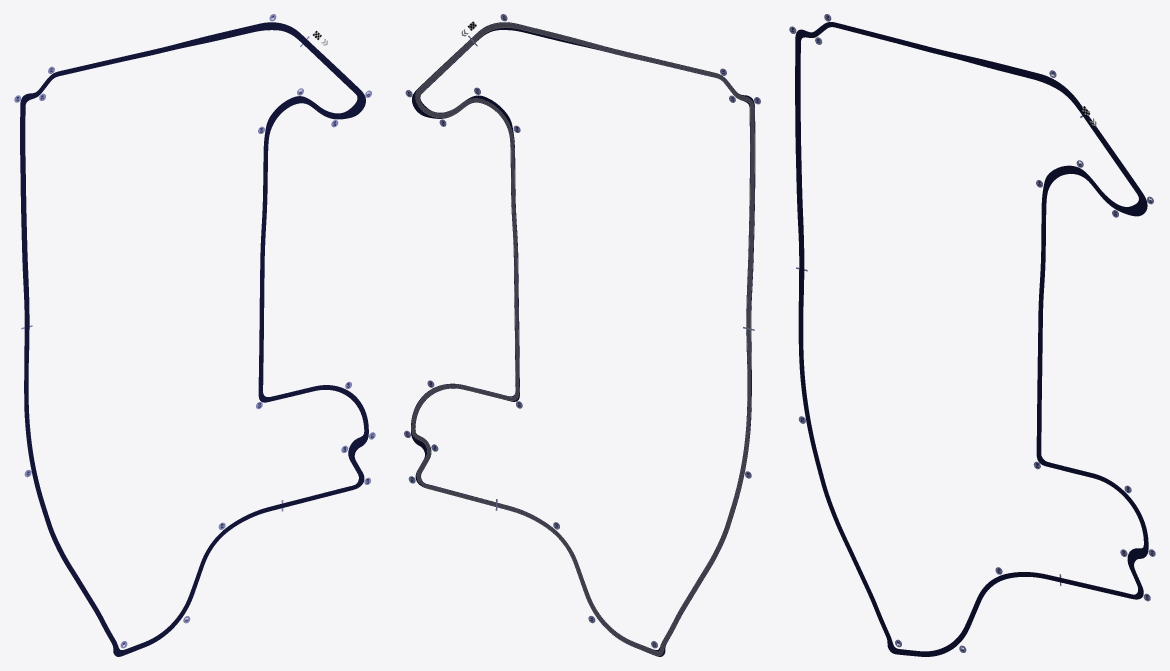
File: vegas.glb
3 renders of one model, left to right at view 1: azimuth 30°, elevation 25°; view 2: azimuth 150°, elevation 25°; view 3: azimuth 330°, elevation 25°, orthographic. The views are drawn at different scales.
Visible parts, largest first — view 1: RunOff; view 2: Road, RunOff, Whitelines; view 3: RunOff.
Boxes of the visible parts, x1,y1,x2,y2 form: RunOff: (20,22,368,656); Road: (411,23,754,655); RunOff: (411,22,755,656); Whitelines: (411,22,754,655); RunOff: (795,22,1148,656).
Bounding box in the file's own units: 1232 × 1985 × 44.91.
